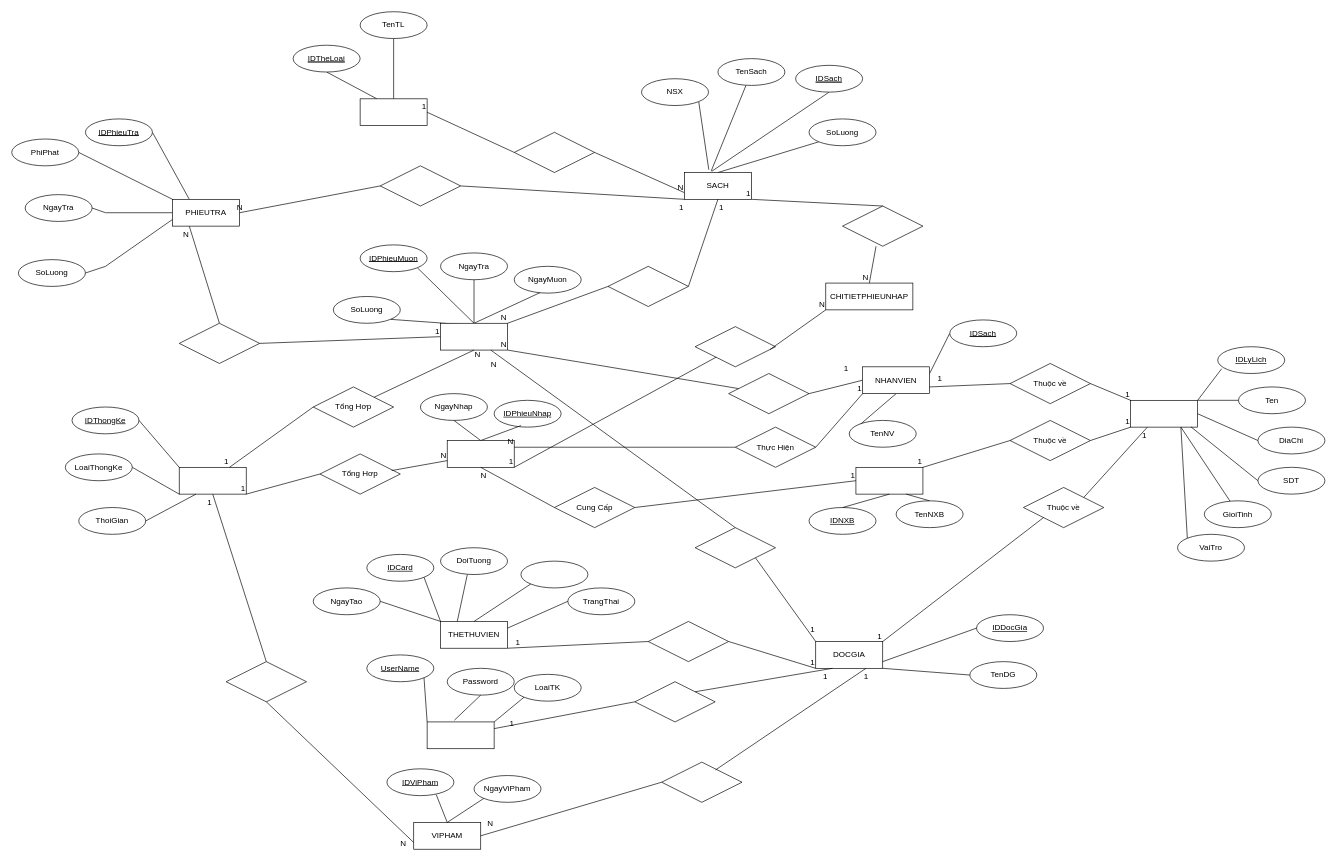
Some shapes in this 1337 by 861 pixel diagram are drawn without their labels. The shapes that lost their labels are listed below. From the top down, each one's centre as x and y in pixels, then its label:
At point (393, 112): "THELOAI".
At point (554, 152): "Thuộc".
At point (420, 185): "Đươc trả trong".
At point (882, 225): "Xuất hiện trong".
At point (647, 286): "Được mượn trong".
At point (219, 343): "Được trả bằng".
At point (474, 336): "PHIEUMUON".
At point (735, 346): "Bao Gồm".
At point (768, 393): "Lập".
At point (1164, 413): "LYLICH".
At point (480, 453): "PHIEUNHAP".
At point (212, 480): "THONGKE".
At point (889, 480): "NHAXUATBAN".
At point (735, 547): "Mượn".
At point (554, 574): "NgayHetHan".
At point (688, 641): "Sở Hữu".
At point (266, 681): "Tổng Hợp".
At point (674, 701): "Có".
At point (460, 735): "TAIKHOAN".
At point (701, 781): "Gây ra".
